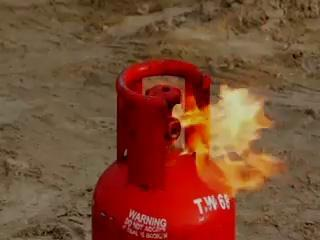Fire: (148, 8, 298, 188)
